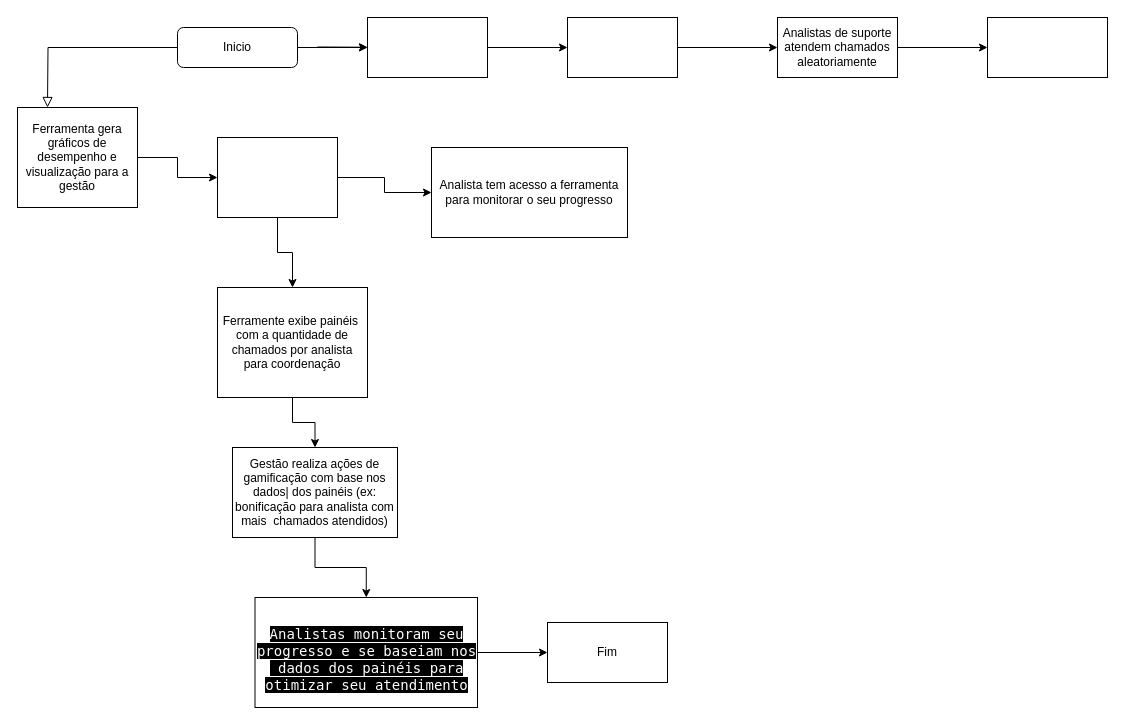
This 1125x725 diagram has some shape labels left out. The shapes that lost their labels are listed below. From the top down, each one's box as (x1, y1, x2, y2) in pixels, then its label:
(366, 16, 488, 78): Usuario abre chamada
(566, 16, 678, 78): Chamadas são exibidos no painel
(986, 16, 1108, 78): Contadores dos chamados são zerados
(216, 136, 338, 218): Gestão utiliza os gráficos para direcionar chamados e implementar ações
